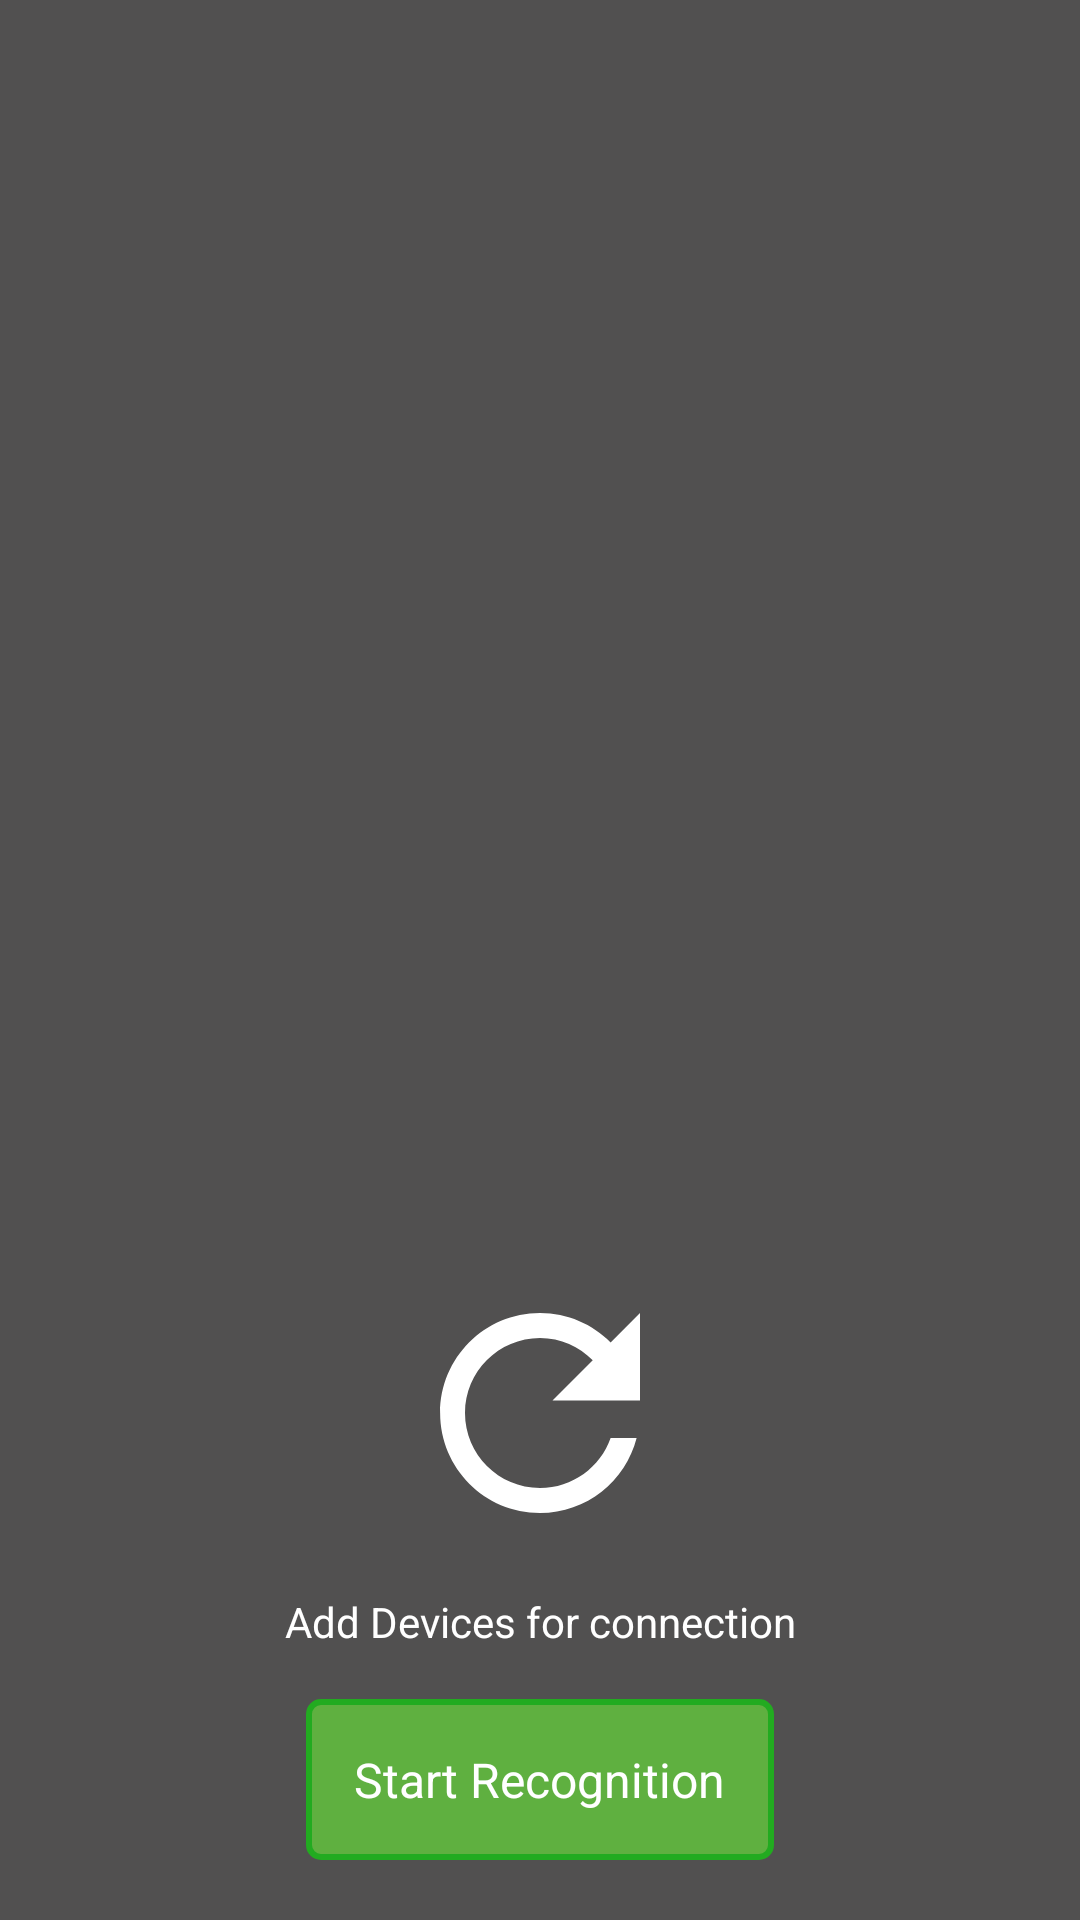

Screen size 1080 × 1920. Icon name, then its box in pixels as (x1, y1, x2, y2):
refresh: (440, 1313, 640, 1513)
